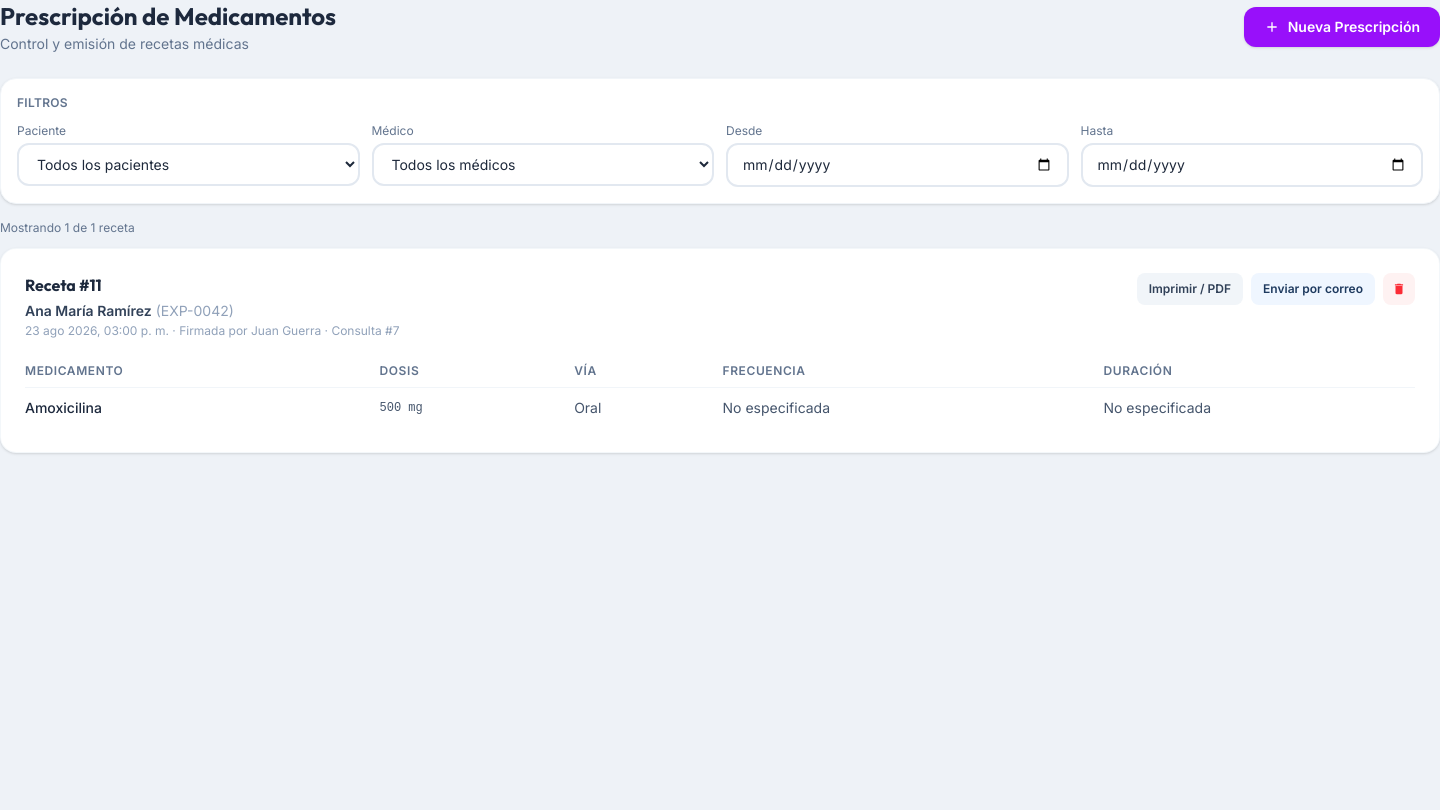
Test case: recetas · anulación › no envía nada si el motivo es más corto que el mínimo
Expected: the heading "Receta #11" is shown, [25, 275, 102, 295]
Step 1. Click the button named "anular la receta 11" → [1399, 289], box [1383, 273, 1415, 305]
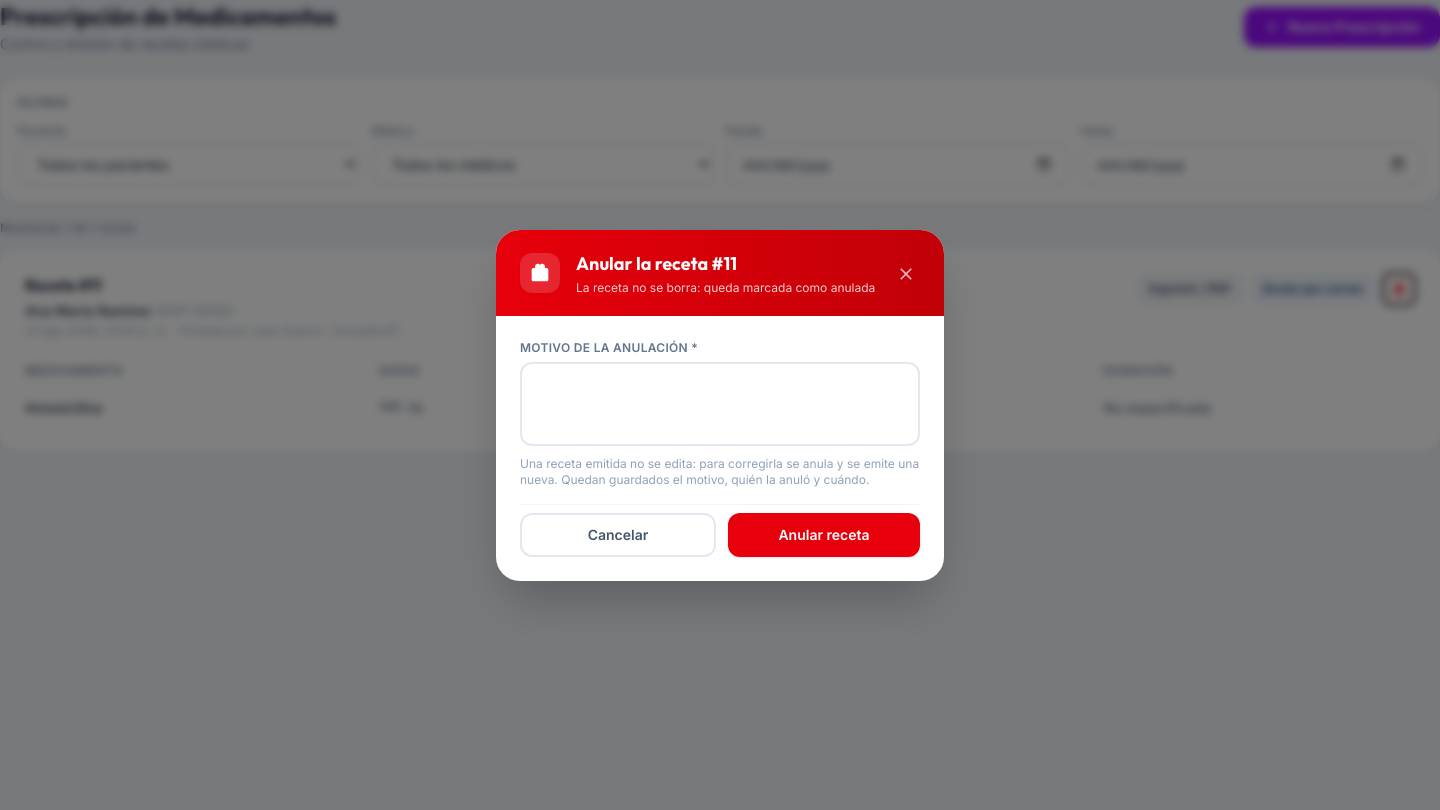
Step 2. Type "Error" into the text box labelled "Motivo de la anulación *" → [720, 404], box [520, 362, 920, 446]
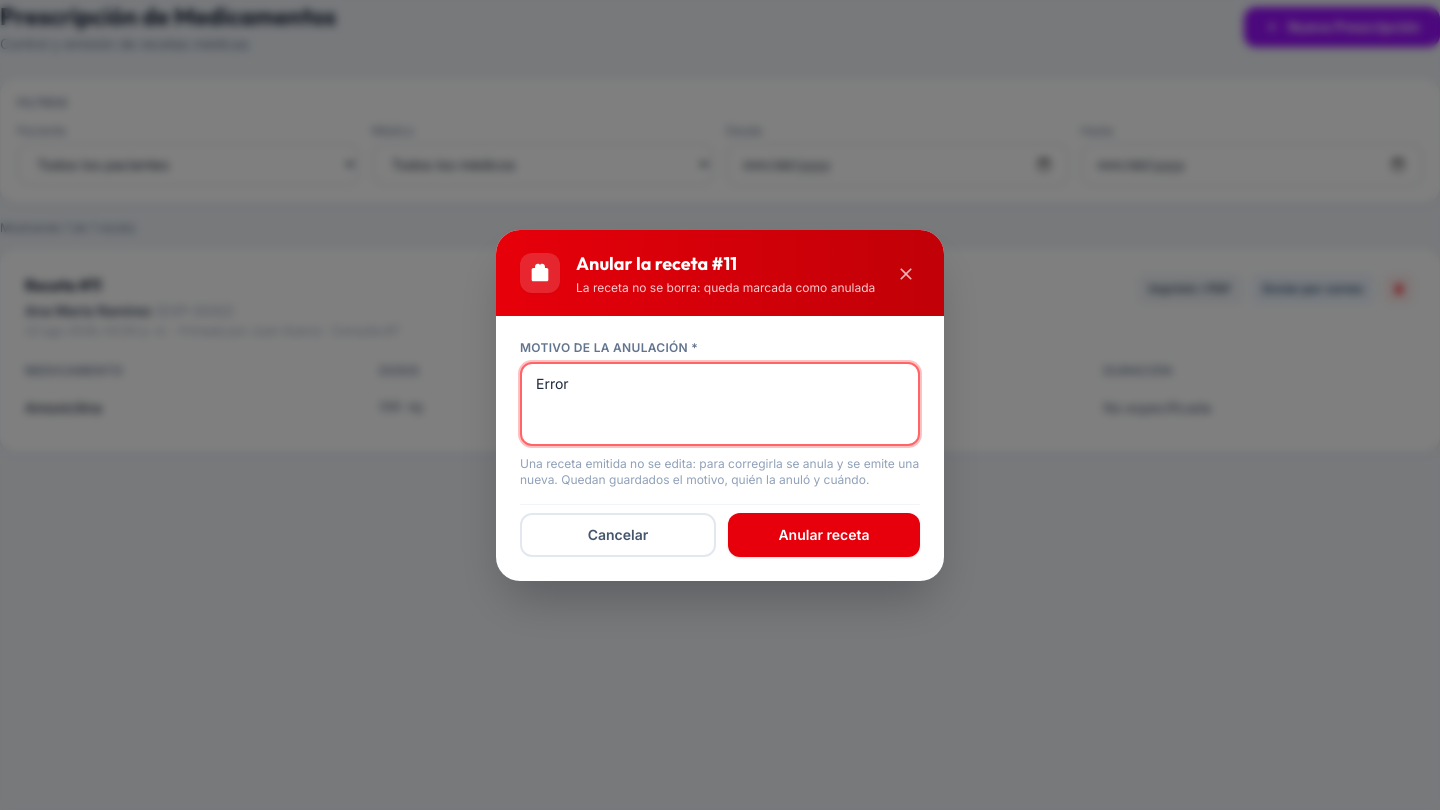
Step 3. Click the button "Anular receta" → [824, 534], box [728, 512, 920, 556]
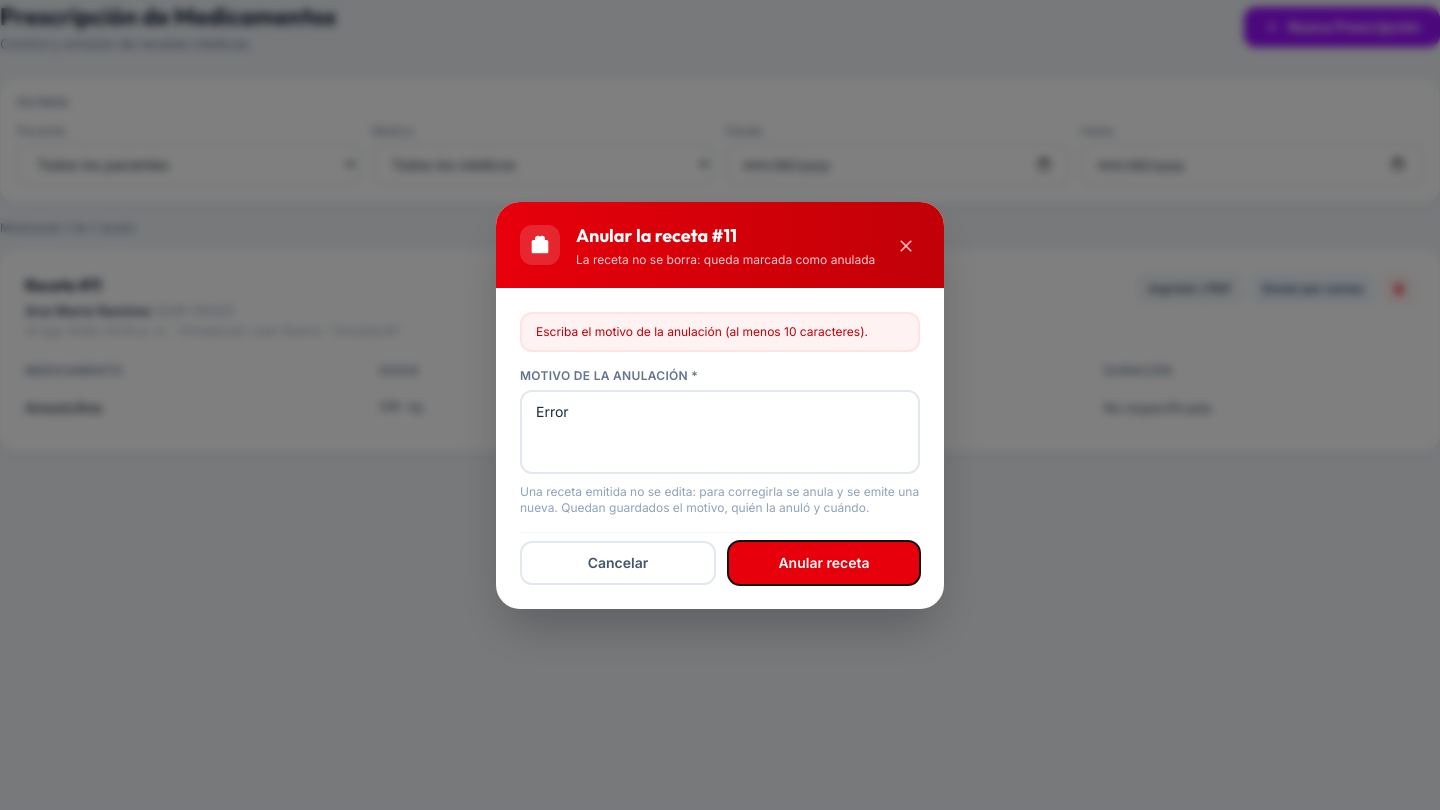
Now the message shows "al menos 10 caracteres", box [536, 324, 868, 338]
